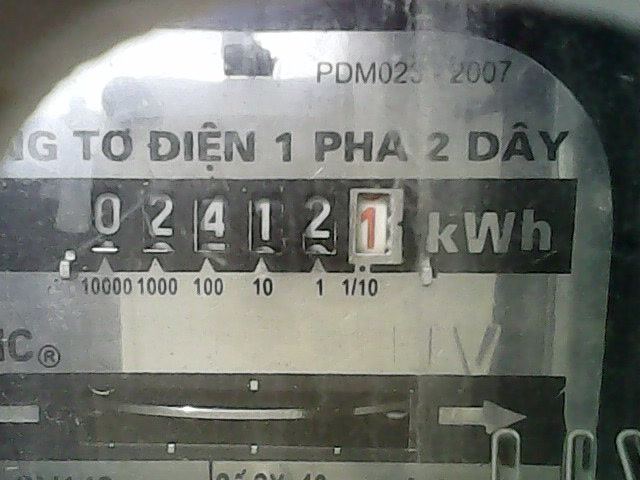phy_plate: (75, 181, 413, 271)
